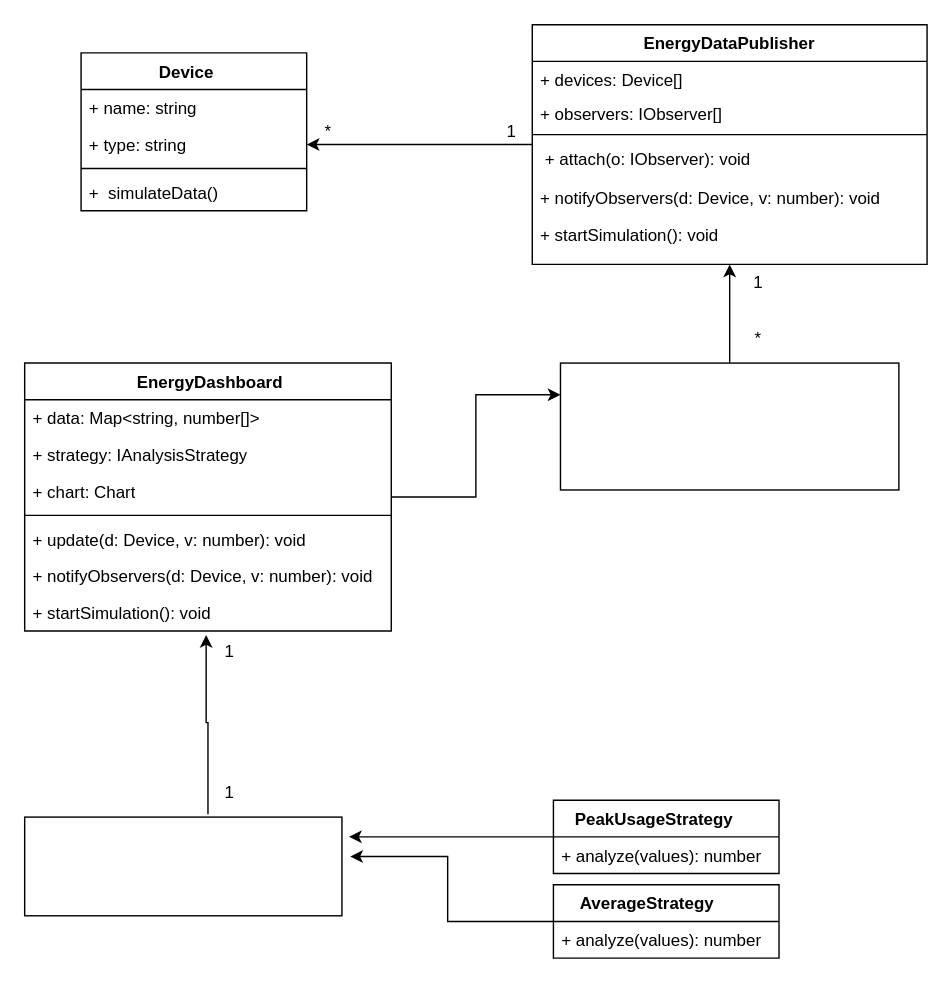
Image size: 952x987. Some labels were removed from this diagram. Here are the shapes that lost their labels. From the top down, the centre of each, then its label:
(x=729, y=426): << IObserver >> Interface + update(d: Device, v: number): void
(x=182, y=866): <<IAnalysisStrategy >> Interface + analyze(values: number[]): number
